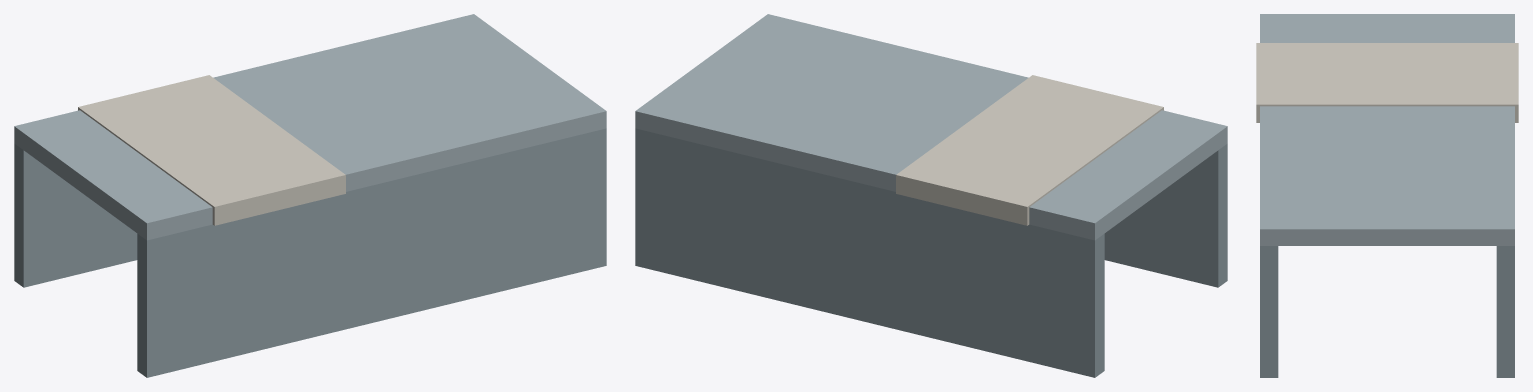
File: textil_capa_sofa.glb
3 views of the same model, side by side, from view 1: azimuth 30°, elevation 25°; view 2: azimuth 150°, elevation 25°; view 3: azimuth 270°, elevation 25° (orthographic). The views are drawn at different scales.
Parts seen in each view (by area): view 1: TEXTIL_CAPA_SOFA_v01; view 2: TEXTIL_CAPA_SOFA_v01; view 3: TEXTIL_CAPA_SOFA_v01.
Boxes of the visible parts, x1,y1,x2,y2 form: TEXTIL_CAPA_SOFA_v01: [14, 14, 606, 377]; TEXTIL_CAPA_SOFA_v01: [635, 14, 1227, 377]; TEXTIL_CAPA_SOFA_v01: [1256, 14, 1518, 377].
Bounding box in the file's own units: 1.4 × 0.455 × 0.72.
